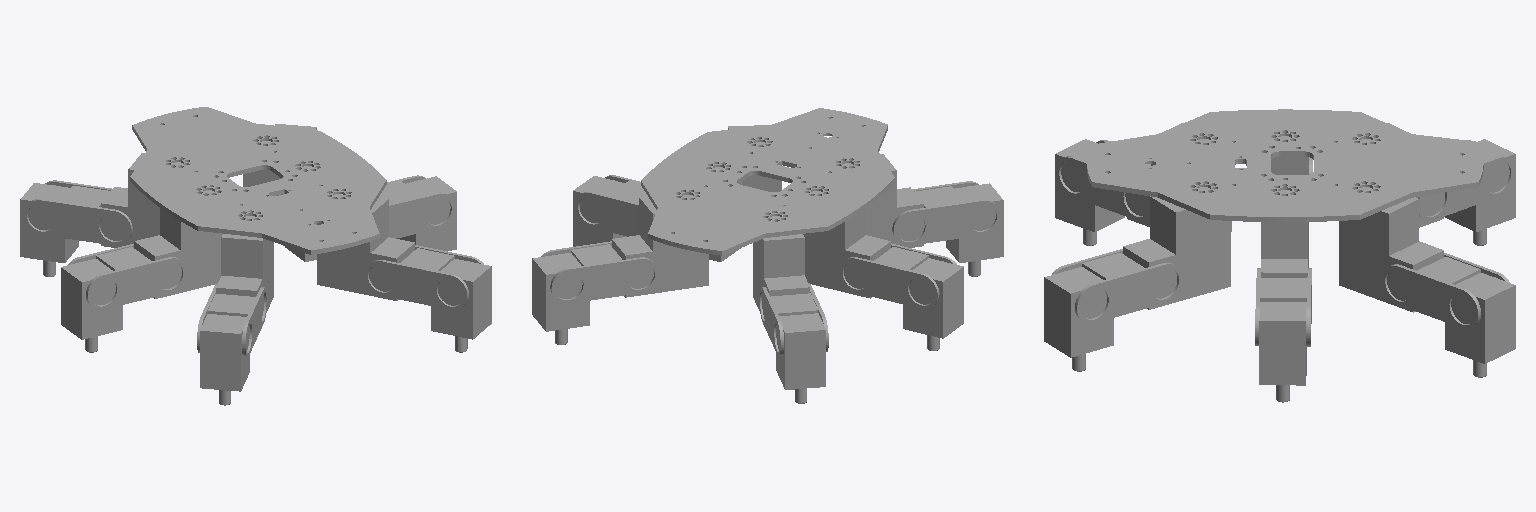
The robot description file, URDF, robot "(Unsaved)":
<?xml version="1.0" ?>
<!-- =================================================================================== -->
<!-- |    This document was autogenerated by xacro from (Unsaved).xacro                | -->
<!-- |    EDITING THIS FILE BY HAND IS NOT RECOMMENDED                                 | -->
<!-- =================================================================================== -->
<robot name="(Unsaved)">
  <material name="silver">
    <color rgba="0.700 0.700 0.700 1.000"/>
  </material>
  <link name="base_link">
    <inertial>
      <origin rpy="0 0 0" xyz="-0.19747326793103112 0.0011545818939354344 0.001999156859975229"/>
      <mass value="1.0602977360982548"/>
      <inertia ixx="0.005088" ixy="1.5e-05" ixz="0.0" iyy="0.002124" iyz="1e-06" izz="0.007209"/>
    </inertial>
    <visual>
      <origin rpy="0 0 0" xyz="0 0 0"/>
      <geometry>
        <mesh filename="base_link.stl" scale="0.001 0.001 0.001"/>
      </geometry>
      <material name="silver"/>
    </visual>
    <collision>
      <origin rpy="0 0 0" xyz="0 0 0"/>
      <geometry>
        <mesh filename="base_link.stl" scale="0.001 0.001 0.001"/>
      </geometry>
    </collision>
  </link>
  <link name="teta1_1">
    <inertial>
      <origin rpy="0 0 0" xyz="0.007457738610655351 -0.033495925310553426 0.0005597644070481703"/>
      <mass value="0.322485513471676"/>
      <inertia ixx="7.4e-05" ixy="3e-06" ixz="-1e-06" iyy="7.3e-05" iyz="1e-06" izz="9.9e-05"/>
    </inertial>
    <visual>
      <origin rpy="0 0 0" xyz="0.114018 0.08132 0.0515"/>
      <geometry>
        <mesh filename="teta1_1.stl" scale="0.001 0.001 0.001"/>
      </geometry>
      <material name="silver"/>
    </visual>
    <collision>
      <origin rpy="0 0 0" xyz="0.114018 0.08132 0.0515"/>
      <geometry>
        <mesh filename="teta1_1.stl" scale="0.001 0.001 0.001"/>
      </geometry>
    </collision>
  </link>
  <link name="tibia1_1">
    <inertial>
      <origin rpy="0 0 0" xyz="0.01300075031251191 0.01014451022429283 -0.01383993691310137"/>
      <mass value="0.5005531081408972"/>
      <inertia ixx="0.000168" ixy="5e-06" ixz="3e-06" iyy="0.000167" iyz="-3e-06" izz="0.000102"/>
    </inertial>
    <visual>
      <origin rpy="0 0 0" xyz="0.099235 0.14816 0.049792"/>
      <geometry>
        <mesh filename="tibia1_1.stl" scale="0.001 0.001 0.001"/>
      </geometry>
      <material name="silver"/>
    </visual>
    <collision>
      <origin rpy="0 0 0" xyz="0.099235 0.14816 0.049792"/>
      <geometry>
        <mesh filename="tibia1_1.stl" scale="0.001 0.001 0.001"/>
      </geometry>
    </collision>
  </link>
  <link name="coxa1_1">
    <inertial>
      <origin rpy="0 0 0" xyz="0.012623331280600614 -0.014399972809350028 -0.03845464138452408"/>
      <mass value="1.0829342534788695"/>
      <inertia ixx="0.000688" ixy="0.000143" ixz="6.9e-05" iyy="0.00065" iyz="-7.9e-05" izz="0.000489"/>
    </inertial>
    <visual>
      <origin rpy="0 0 0" xyz="0.1571 0.05727 -0.0"/>
      <geometry>
        <mesh filename="coxa1_1.stl" scale="0.001 0.001 0.001"/>
      </geometry>
      <material name="silver"/>
    </visual>
    <collision>
      <origin rpy="0 0 0" xyz="0.1571 0.05727 -0.0"/>
      <geometry>
        <mesh filename="coxa1_1.stl" scale="0.001 0.001 0.001"/>
      </geometry>
    </collision>
  </link>
  <link name="teta2_1">
    <inertial>
      <origin rpy="0 0 0" xyz="0.03080650855798238 -0.01509942070888103 0.0009294869219693275"/>
      <mass value="0.322485513471676"/>
      <inertia ixx="7.1e-05" ixy="-0.0" ixz="-1e-06" iyy="7.6e-05" iyz="-0.0" izz="9.9e-05"/>
    </inertial>
    <visual>
      <origin rpy="0 0 0" xyz="0.106659 -0.01862 0.0515"/>
      <geometry>
        <mesh filename="teta2_1.stl" scale="0.001 0.001 0.001"/>
      </geometry>
      <material name="silver"/>
    </visual>
    <collision>
      <origin rpy="0 0 0" xyz="0.106659 -0.01862 0.0515"/>
      <geometry>
        <mesh filename="teta2_1.stl" scale="0.001 0.001 0.001"/>
      </geometry>
    </collision>
  </link>
  <link name="tibia2_1">
    <inertial>
      <origin rpy="0 0 0" xyz="-0.0011772196856956324 0.01642612539978206 -0.013866134636234297"/>
      <mass value="0.5005531081408972"/>
      <inertia ixx="0.000163" ixy="-0.0" ixz="-2e-06" iyy="0.000172" iyz="0.0" izz="0.000101"/>
    </inertial>
    <visual>
      <origin rpy="0 0 0" xyz="0.045218 0.011587 0.050239"/>
      <geometry>
        <mesh filename="tibia2_1.stl" scale="0.001 0.001 0.001"/>
      </geometry>
      <material name="silver"/>
    </visual>
    <collision>
      <origin rpy="0 0 0" xyz="0.045218 0.011587 0.050239"/>
      <geometry>
        <mesh filename="tibia2_1.stl" scale="0.001 0.001 0.001"/>
      </geometry>
    </collision>
  </link>
  <link name="coxa2_1">
    <inertial>
      <origin rpy="0 0 0" xyz="0.019130272556860894 0.0008632369545831863 -0.03845464138452424"/>
      <mass value="1.0829342534788695"/>
      <inertia ixx="0.000525" ixy="-1.3e-05" ixz="0.000105" iyy="0.000813" iyz="5e-06" izz="0.000489"/>
    </inertial>
    <visual>
      <origin rpy="0 0 0" xyz="0.152351 -0.0 -0.0"/>
      <geometry>
        <mesh filename="coxa2_1.stl" scale="0.001 0.001 0.001"/>
      </geometry>
      <material name="silver"/>
    </visual>
    <collision>
      <origin rpy="0 0 0" xyz="0.152351 -0.0 -0.0"/>
      <geometry>
        <mesh filename="coxa2_1.stl" scale="0.001 0.001 0.001"/>
      </geometry>
    </collision>
  </link>
  <link name="teta3_1">
    <inertial>
      <origin rpy="0 0 0" xyz="0.03205389994058132 0.011802607043990956 -0.0002969308644088231"/>
      <mass value="0.322485513471676"/>
      <inertia ixx="7.4e-05" ixy="-3e-06" ixz="-0.0" iyy="7.3e-05" iyz="-0.0" izz="9.9e-05"/>
    </inertial>
    <visual>
      <origin rpy="0 0 0" xyz="0.139127 -0.103221 0.0515"/>
      <geometry>
        <mesh filename="teta3_1.stl" scale="0.001 0.001 0.001"/>
      </geometry>
      <material name="silver"/>
    </visual>
    <collision>
      <origin rpy="0 0 0" xyz="0.139127 -0.103221 0.0515"/>
      <geometry>
        <mesh filename="teta3_1.stl" scale="0.001 0.001 0.001"/>
      </geometry>
    </collision>
  </link>
  <link name="tibia3_1">
    <inertial>
      <origin rpy="0 0 0" xyz="-0.012443498606944797 0.010778592092196643 -0.013872883963235084"/>
      <mass value="0.5005531081408972"/>
      <inertia ixx="0.000168" ixy="-4e-06" ixz="-0.0" iyy="0.000167" iyz="0.0" izz="0.000101"/>
    </inertial>
    <visual>
      <origin rpy="0 0 0" xyz="0.074899 -0.126966 0.0515"/>
      <geometry>
        <mesh filename="tibia3_1.stl" scale="0.001 0.001 0.001"/>
      </geometry>
      <material name="silver"/>
    </visual>
    <collision>
      <origin rpy="0 0 0" xyz="0.074899 -0.126966 0.0515"/>
      <geometry>
        <mesh filename="tibia3_1.stl" scale="0.001 0.001 0.001"/>
      </geometry>
    </collision>
  </link>
  <link name="coxa3_1">
    <inertial>
      <origin rpy="0 0 0" xyz="0.012550506304740416 0.01446349281278922 -0.038454641384523994"/>
      <mass value="1.0829342534788695"/>
      <inertia ixx="0.000689" ixy="-0.000143" ixz="6.9e-05" iyy="0.000649" iyz="7.9e-05" izz="0.000489"/>
    </inertial>
    <visual>
      <origin rpy="0 0 0" xyz="0.1571 -0.05727 -0.0"/>
      <geometry>
        <mesh filename="coxa3_1.stl" scale="0.001 0.001 0.001"/>
      </geometry>
      <material name="silver"/>
    </visual>
    <collision>
      <origin rpy="0 0 0" xyz="0.1571 -0.05727 -0.0"/>
      <geometry>
        <mesh filename="coxa3_1.stl" scale="0.001 0.001 0.001"/>
      </geometry>
    </collision>
  </link>
  <link name="teta4_1">
    <inertial>
      <origin rpy="0 0 0" xyz="-0.007231179844230107 0.033548934178161266 -0.0002969308644086843"/>
      <mass value="0.322485513471676"/>
      <inertia ixx="7.4e-05" ixy="3e-06" ixz="-0.0" iyy="7.3e-05" iyz="0.0" izz="9.9e-05"/>
    </inertial>
    <visual>
      <origin rpy="0 0 0" xyz="0.280518 -0.081614 0.0515"/>
      <geometry>
        <mesh filename="teta4_1.stl" scale="0.001 0.001 0.001"/>
      </geometry>
      <material name="silver"/>
    </visual>
    <collision>
      <origin rpy="0 0 0" xyz="0.280518 -0.081614 0.0515"/>
      <geometry>
        <mesh filename="teta4_1.stl" scale="0.001 0.001 0.001"/>
      </geometry>
    </collision>
  </link>
  <link name="tibia4_1">
    <inertial>
      <origin rpy="0 0 0" xyz="-0.012444027191681306 -0.010778842746671374 -0.013872883963234932"/>
      <mass value="0.5005531081408972"/>
      <inertia ixx="0.000168" ixy="4e-06" ixz="-0.0" iyy="0.000167" iyz="-0.0" izz="0.000101"/>
    </inertial>
    <visual>
      <origin rpy="0 0 0" xyz="0.294859 -0.148572 0.0515"/>
      <geometry>
        <mesh filename="tibia4_1.stl" scale="0.001 0.001 0.001"/>
      </geometry>
      <material name="silver"/>
    </visual>
    <collision>
      <origin rpy="0 0 0" xyz="0.294859 -0.148572 0.0515"/>
      <geometry>
        <mesh filename="tibia4_1.stl" scale="0.001 0.001 0.001"/>
      </geometry>
    </collision>
  </link>
  <link name="coxa4_1">
    <inertial>
      <origin rpy="0 0 0" xyz="-0.012525182858772466 0.014485940570305444 -0.03845464138452389"/>
      <mass value="1.0829342534788695"/>
      <inertia ixx="0.00069" ixy="0.000143" ixz="-6.9e-05" iyy="0.000648" iyz="8e-05" izz="0.000489"/>
    </inertial>
    <visual>
      <origin rpy="0 0 0" xyz="0.237601 -0.05727 -0.0"/>
      <geometry>
        <mesh filename="coxa4_1.stl" scale="0.001 0.001 0.001"/>
      </geometry>
      <material name="silver"/>
    </visual>
    <collision>
      <origin rpy="0 0 0" xyz="0.237601 -0.05727 -0.0"/>
      <geometry>
        <mesh filename="coxa4_1.stl" scale="0.001 0.001 0.001"/>
      </geometry>
    </collision>
  </link>
  <link name="teta5_1">
    <inertial>
      <origin rpy="0 0 0" xyz="-0.03014949429074193 0.016394643449314152 -0.0002969308644087121"/>
      <mass value="0.322485513471676"/>
      <inertia ixx="7.1e-05" ixy="-0.0" ixz="-0.0" iyy="7.6e-05" iyz="-0.0" izz="9.9e-05"/>
    </inertial>
    <visual>
      <origin rpy="0 0 0" xyz="0.288793 0.016662 0.0515"/>
      <geometry>
        <mesh filename="teta5_1.stl" scale="0.001 0.001 0.001"/>
      </geometry>
      <material name="silver"/>
    </visual>
    <collision>
      <origin rpy="0 0 0" xyz="0.288793 0.016662 0.0515"/>
      <geometry>
        <mesh filename="teta5_1.stl" scale="0.001 0.001 0.001"/>
      </geometry>
    </collision>
  </link>
  <link name="tibia6_1">
    <inertial>
      <origin rpy="0 0 0" xyz="5.772391614522476e-05 -0.016462667283913355 -0.013872883963234946"/>
      <mass value="0.5005531081408972"/>
      <inertia ixx="0.000163" ixy="-0.0" ixz="0.0" iyy="0.000172" iyz="-0.0" izz="0.000101"/>
    </inertial>
    <visual>
      <origin rpy="0 0 0" xyz="0.348908 -0.016128 0.0515"/>
      <geometry>
        <mesh filename="tibia6_1.stl" scale="0.001 0.001 0.001"/>
      </geometry>
      <material name="silver"/>
    </visual>
    <collision>
      <origin rpy="0 0 0" xyz="0.348908 -0.016128 0.0515"/>
      <geometry>
        <mesh filename="tibia6_1.stl" scale="0.001 0.001 0.001"/>
      </geometry>
    </collision>
  </link>
  <link name="coxa5_1">
    <inertial>
      <origin rpy="0 0 0" xyz="-0.01914926572398204 -4.970195210862727e-05 -0.038454641384523945"/>
      <mass value="1.0829342534788695"/>
      <inertia ixx="0.000525" ixy="-0.0" ixz="-0.000105" iyy="0.000813" iyz="-0.0" izz="0.000489"/>
    </inertial>
    <visual>
      <origin rpy="0 0 0" xyz="0.242351 -0.0 -0.0"/>
      <geometry>
        <mesh filename="coxa5_1.stl" scale="0.001 0.001 0.001"/>
      </geometry>
      <material name="silver"/>
    </visual>
    <collision>
      <origin rpy="0 0 0" xyz="0.242351 -0.0 -0.0"/>
      <geometry>
        <mesh filename="coxa5_1.stl" scale="0.001 0.001 0.001"/>
      </geometry>
    </collision>
  </link>
  <link name="teta6_1">
    <inertial>
      <origin rpy="0 0 0" xyz="-0.03217417984423032 -0.011941934178161306 -0.0002969308644086427"/>
      <mass value="0.322485513471676"/>
      <inertia ixx="7.4e-05" ixy="-3e-06" ixz="-0.0" iyy="7.3e-05" iyz="-0.0" izz="9.9e-05"/>
    </inertial>
    <visual>
      <origin rpy="0 0 0" xyz="0.255575 0.103221 0.0515"/>
      <geometry>
        <mesh filename="teta6_1.stl" scale="0.001 0.001 0.001"/>
      </geometry>
      <material name="silver"/>
    </visual>
    <collision>
      <origin rpy="0 0 0" xyz="0.255575 0.103221 0.0515"/>
      <geometry>
        <mesh filename="teta6_1.stl" scale="0.001 0.001 0.001"/>
      </geometry>
    </collision>
  </link>
  <link name="tibia5_1">
    <inertial>
      <origin rpy="0 0 0" xyz="0.012443907652835318 -0.010778592092196587 -0.013872883963234918"/>
      <mass value="0.5005531081408972"/>
      <inertia ixx="0.000168" ixy="-4e-06" ixz="0.0" iyy="0.000167" iyz="-0.0" izz="0.000101"/>
    </inertial>
    <visual>
      <origin rpy="0 0 0" xyz="0.319803 0.126966 0.0515"/>
      <geometry>
        <mesh filename="tibia5_1.stl" scale="0.001 0.001 0.001"/>
      </geometry>
      <material name="silver"/>
    </visual>
    <collision>
      <origin rpy="0 0 0" xyz="0.319803 0.126966 0.0515"/>
      <geometry>
        <mesh filename="tibia5_1.stl" scale="0.001 0.001 0.001"/>
      </geometry>
    </collision>
  </link>
  <link name="coxa6_1">
    <inertial>
      <origin rpy="0 0 0" xyz="-0.012551097258850008 -0.014463492812789358 -0.03845464138452392"/>
      <mass value="1.0829342534788695"/>
      <inertia ixx="0.000689" ixy="-0.000143" ixz="-6.9e-05" iyy="0.000649" iyz="-7.9e-05" izz="0.000489"/>
    </inertial>
    <visual>
      <origin rpy="0 0 0" xyz="0.237601 0.05727 -0.0"/>
      <geometry>
        <mesh filename="coxa6_1.stl" scale="0.001 0.001 0.001"/>
      </geometry>
      <material name="silver"/>
    </visual>
    <collision>
      <origin rpy="0 0 0" xyz="0.237601 0.05727 -0.0"/>
      <geometry>
        <mesh filename="coxa6_1.stl" scale="0.001 0.001 0.001"/>
      </geometry>
    </collision>
  </link>
  <joint name="Revolute 1" type="revolute">
    <origin rpy="0 0 0" xyz="0.043082 -0.02405 -0.0515"/>
    <parent link="coxa1_1"/>
    <child link="teta1_1"/>
    <axis xyz="0.75136 0.659893 -0.0"/>
    <limit effort="100" lower="-1.570796" upper="1.570796" velocity="100"/>
  </joint>
  <joint name="Revolute 2" type="revolute">
    <origin rpy="0 0 0" xyz="0.014783 -0.06684 0.001708"/>
    <parent link="teta1_1"/>
    <child link="tibia1_1"/>
    <axis xyz="0.75136 0.659893 -0.0"/>
    <limit effort="100" lower="-1.570796" upper="1.612352" velocity="100"/>
  </joint>
  <joint name="Revolute 3" type="revolute">
    <origin rpy="0 0 0" xyz="-0.1571 -0.05727 0.0"/>
    <parent link="base_link"/>
    <child link="coxa1_1"/>
    <axis xyz="0.0 0.0 1.0"/>
    <limit effort="100" lower="-0.785398" upper="1.570796" velocity="100"/>
  </joint>
  <joint name="Revolute 4" type="revolute">
    <origin rpy="0 0 0" xyz="0.045692 0.01862 -0.0515"/>
    <parent link="coxa2_1"/>
    <child link="teta2_1"/>
    <axis xyz="-0.045973 0.998943 -0.0"/>
    <limit effort="100" lower="-1.570796" upper="1.570796" velocity="100"/>
  </joint>
  <joint name="Revolute 5" type="revolute">
    <origin rpy="0 0 0" xyz="0.061441 -0.030207 0.001261"/>
    <parent link="teta2_1"/>
    <child link="tibia2_1"/>
    <axis xyz="0.045973 -0.998943 0.0"/>
    <limit effort="100" lower="-1.570796" upper="1.570796" velocity="100"/>
  </joint>
  <joint name="Revolute 6" type="revolute">
    <origin rpy="0 0 0" xyz="-0.152351 0.0 0.0"/>
    <parent link="base_link"/>
    <child link="coxa2_1"/>
    <axis xyz="0.0 0.0 -1.0"/>
    <limit effort="100" lower="-1.570796" upper="1.570796" velocity="100"/>
  </joint>
  <joint name="Revolute 7" type="revolute">
    <origin rpy="0 0 0" xyz="0.017973 0.045951 -0.0515"/>
    <parent link="coxa3_1"/>
    <child link="teta3_1"/>
    <axis xyz="-0.755853 0.654741 -0.0"/>
    <limit effort="100" lower="-1.570796" upper="1.570796" velocity="100"/>
  </joint>
  <joint name="Revolute 8" type="revolute">
    <origin rpy="0 0 0" xyz="0.064228 0.023745 0.0"/>
    <parent link="teta3_1"/>
    <child link="tibia3_1"/>
    <axis xyz="0.755853 -0.654741 0.0"/>
    <limit effort="100" lower="-1.570796" upper="1.570796" velocity="100"/>
  </joint>
  <joint name="Revolute 9" type="revolute">
    <origin rpy="0 0 0" xyz="-0.1571 0.05727 0.0"/>
    <parent link="base_link"/>
    <child link="coxa3_1"/>
    <axis xyz="0.0 0.0 -1.0"/>
    <limit effort="100" lower="-0.596903" upper="1.570796" velocity="100"/>
  </joint>
  <joint name="Revolute 10" type="revolute">
    <origin rpy="0 0 0" xyz="-0.042917 0.024344 -0.0515"/>
    <parent link="coxa4_1"/>
    <child link="teta4_1"/>
    <axis xyz="-0.755853 -0.654741 -0.0"/>
    <limit effort="100" lower="-1.570796" upper="1.570796" velocity="100"/>
  </joint>
  <joint name="Revolute 11" type="revolute">
    <origin rpy="0 0 0" xyz="-0.014341 0.066958 0.0"/>
    <parent link="teta4_1"/>
    <child link="tibia4_1"/>
    <axis xyz="-0.755853 -0.654741 -0.0"/>
    <limit effort="100" lower="-1.570796" upper="1.570796" velocity="100"/>
  </joint>
  <joint name="Revolute 12" type="revolute">
    <origin rpy="0 0 0" xyz="-0.237601 0.05727 0.0"/>
    <parent link="base_link"/>
    <child link="coxa4_1"/>
    <axis xyz="0.0 0.0 1.0"/>
    <limit effort="100" lower="-1.103286" upper="1.570796" velocity="100"/>
  </joint>
  <joint name="Revolute 13" type="revolute">
    <origin rpy="0 0 0" xyz="-0.046442 -0.016662 -0.0515"/>
    <parent link="coxa5_1"/>
    <child link="teta5_1"/>
    <axis xyz="0.003491 -0.999994 0.0"/>
    <limit effort="100" lower="-1.570796" upper="1.570796" velocity="100"/>
  </joint>
  <joint name="Revolute 14" type="revolute">
    <origin rpy="0 0 0" xyz="-0.060115 0.03279 0.0"/>
    <parent link="teta5_1"/>
    <child link="tibia6_1"/>
    <axis xyz="0.003491 -0.999994 0.0"/>
    <limit effort="100" lower="-1.570796" upper="1.570796" velocity="100"/>
  </joint>
  <joint name="Revolute 15" type="revolute">
    <origin rpy="0 0 0" xyz="-0.242351 0.0 0.0"/>
    <parent link="base_link"/>
    <child link="coxa5_1"/>
    <axis xyz="0.0 0.0 -1.0"/>
    <limit effort="100" lower="-1.570796" upper="1.570796" velocity="100"/>
  </joint>
  <joint name="Revolute 16" type="revolute">
    <origin rpy="0 0 0" xyz="-0.017974 -0.045951 -0.0515"/>
    <parent link="coxa6_1"/>
    <child link="teta6_1"/>
    <axis xyz="0.755853 -0.654741 -0.0"/>
    <limit effort="100" lower="-1.570796" upper="1.570796" velocity="100"/>
  </joint>
  <joint name="Revolute 17" type="revolute">
    <origin rpy="0 0 0" xyz="-0.064228 -0.023745 0.0"/>
    <parent link="teta6_1"/>
    <child link="tibia5_1"/>
    <axis xyz="0.755853 -0.654741 -0.0"/>
    <limit effort="100" lower="-1.570796" upper="1.570796" velocity="100"/>
  </joint>
  <joint name="Revolute 18" type="revolute">
    <origin rpy="0 0 0" xyz="-0.237601 -0.05727 0.0"/>
    <parent link="base_link"/>
    <child link="coxa6_1"/>
    <axis xyz="0.0 0.0 -1.0"/>
    <limit effort="100" lower="-0.704255" upper="1.570796" velocity="100"/>
  </joint>
</robot>

--- Render facts (derived) ---
3 views of the same robot in one strip: view 1: azimuth 30°, elevation 25°; view 2: azimuth 150°, elevation 25°; view 3: azimuth 270°, elevation 25° (orthographic).
Robot: (Unsaved) — 19 links, 18 joints (18 revolute); root link base_link; default pose: every joint at zero.
Visible links, largest first — view 1: base_link, coxa5_1, coxa1_1, tibia6_1, tibia1_1, tibia5_1, teta4_1, teta1_1, teta5_1, coxa6_1, tibia4_1, coxa4_1 (+3 smaller); view 2: base_link, coxa3_1, coxa5_1, tibia6_1, tibia3_1, tibia4_1, teta3_1, teta6_1, teta5_1, coxa4_1, tibia5_1, coxa6_1 (+3 smaller); view 3: base_link, coxa1_1, coxa3_1, tibia3_1, tibia1_1, tibia2_1, teta1_1, teta3_1, tibia4_1, tibia5_1, coxa2_1, teta2_1 (+5 smaller).
Boxes of the visible links, x1,y1,x2,y2 form: base_link: [130, 107, 386, 254]; coxa5_1: [134, 190, 222, 298]; coxa1_1: [317, 194, 414, 300]; tibia6_1: [61, 259, 122, 352]; tibia1_1: [431, 259, 491, 352]; tibia5_1: [200, 314, 249, 405]; teta4_1: [23, 180, 132, 245]; teta1_1: [364, 245, 483, 309]; teta5_1: [68, 244, 186, 309]; coxa6_1: [216, 216, 273, 319]; tibia4_1: [20, 183, 78, 276]; coxa4_1: [100, 153, 182, 247]; base_link: [641, 108, 894, 255]; coxa3_1: [612, 195, 708, 297]; coxa5_1: [803, 191, 890, 298]; tibia6_1: [903, 258, 963, 350]; tibia3_1: [532, 253, 589, 344]; tibia4_1: [776, 313, 825, 403]; teta3_1: [541, 241, 658, 303]; teta6_1: [892, 181, 1000, 245]; teta5_1: [839, 243, 956, 308]; coxa4_1: [753, 216, 809, 318]; tibia5_1: [946, 183, 1003, 276]; coxa6_1: [842, 154, 924, 247]; base_link: [1087, 109, 1483, 221]; coxa1_1: [1123, 187, 1230, 309]; coxa3_1: [1339, 187, 1443, 312]; tibia3_1: [1445, 273, 1515, 377]; tibia1_1: [1044, 267, 1113, 371]; tibia2_1: [1259, 302, 1306, 402]; teta1_1: [1052, 249, 1182, 323]; teta3_1: [1382, 253, 1509, 328]; tibia4_1: [1445, 139, 1515, 245]; tibia5_1: [1055, 139, 1124, 245]; coxa2_1: [1261, 190, 1308, 277]; teta2_1: [1255, 268, 1311, 346].
Size in the robot's own frame: 0.3403 by 0.3326 by 0.1138 metres.
Meshes: 19 distinct files referenced, 19 mesh visuals loaded (19 binary STL).
